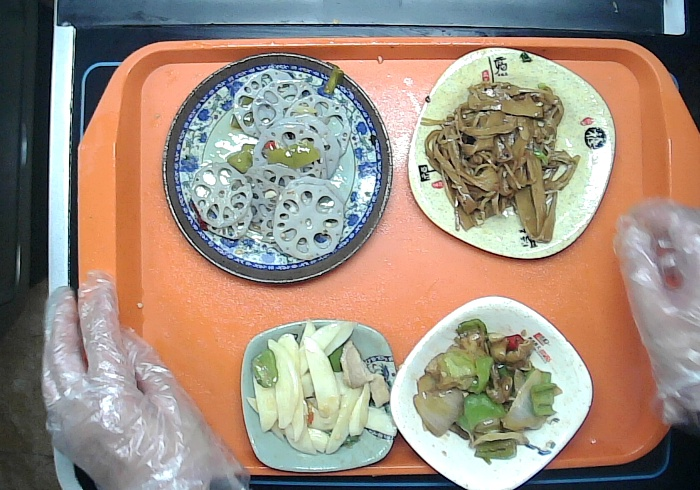NLDX-Bai_Se_Xiao_Fang_Die: (382, 288, 596, 488)
NLDX-Fu_Zi_Fang_Die: (405, 42, 618, 267)
NLDX-Qing_Hua_Xiao_Fang_Die: (231, 313, 404, 477)
NLDX-Qing_Hua_Yuan_Die: (159, 49, 396, 290)
